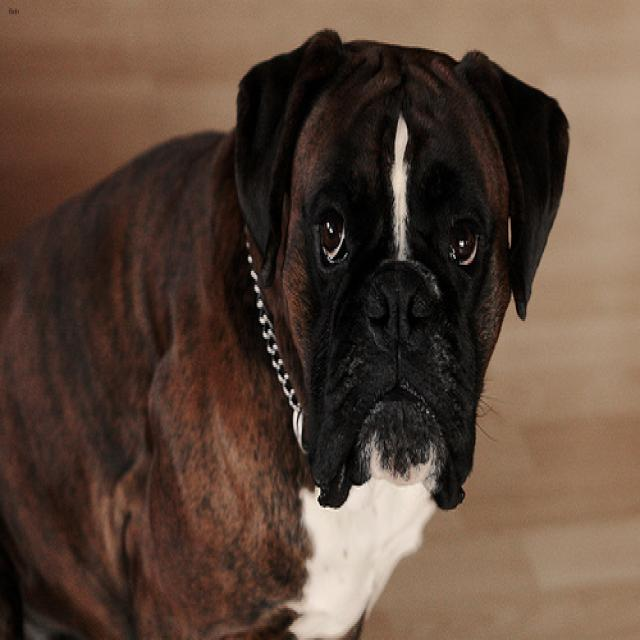dog-boxer: (1, 16, 577, 636)
